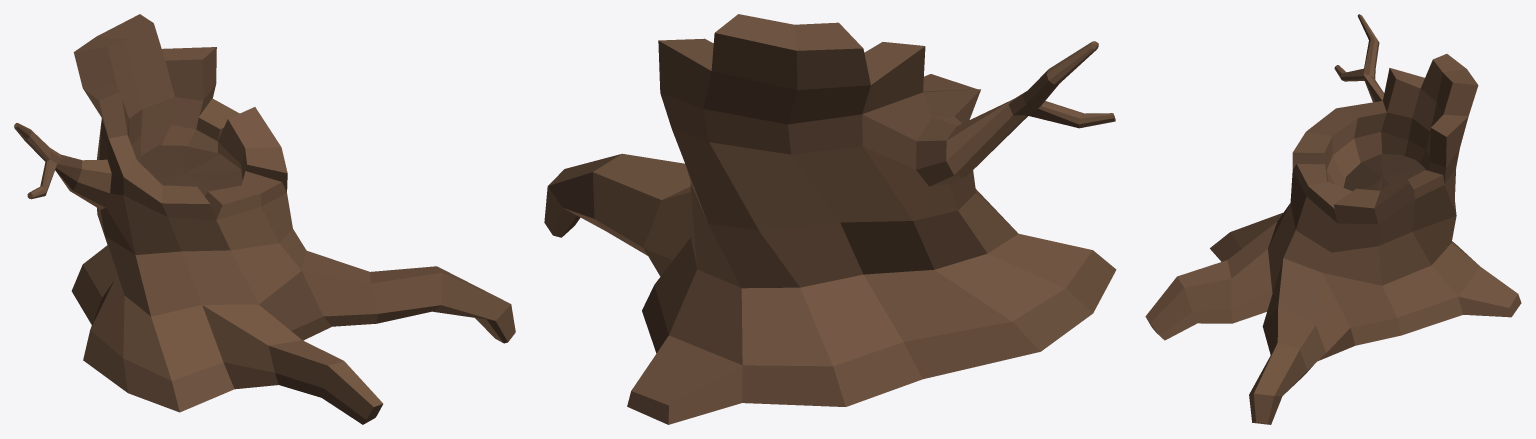
The model's file is Tree_Stump.fbx.
3 renders of one model, left to right at view 1: azimuth 30°, elevation 25°; view 2: azimuth 150°, elevation 25°; view 3: azimuth 270°, elevation 25°, orthographic. The views are drawn at different scales.
Visible parts, largest first — view 1: Tree Stump; view 2: Tree Stump; view 3: Tree Stump.
Part boxes in pixels (box(x1,y1,x2,y2)): Tree Stump: box(14, 14, 515, 424); Tree Stump: box(544, 14, 1116, 424); Tree Stump: box(1145, 14, 1521, 424).
Bounding box in the file's own units: 213 × 135 × 188.
